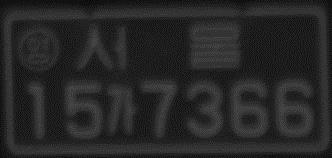1: (21, 81, 52, 141)
3: (183, 81, 224, 139)
5: (63, 81, 105, 140)
6: (230, 79, 271, 141), (274, 78, 315, 138)
7: (140, 80, 179, 141)
가: (103, 84, 141, 138)
서울_D: (73, 20, 243, 81)
영: (16, 24, 61, 75)
